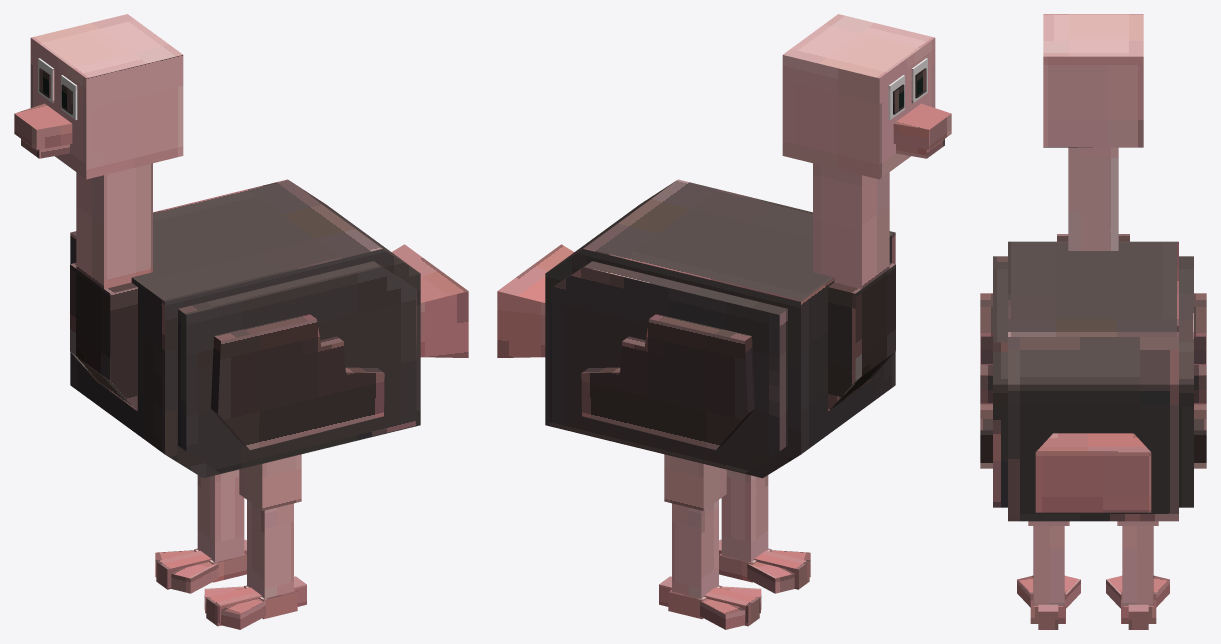
The model's file is animal_ostrich.obj.
The picture shows the model from 3 angles, left to right: view 1: azimuth 30°, elevation 25°; view 2: azimuth 150°, elevation 25°; view 3: azimuth 270°, elevation 25°; orthographic projection. The views are drawn at different scales.
Visible parts, largest first — view 1: animal_ostrich; view 2: animal_ostrich; view 3: animal_ostrich.
Boxes of the visible parts, x1=… form: animal_ostrich: x1=14, y1=14, x2=468, y2=629; animal_ostrich: x1=497, y1=14, x2=951, y2=629; animal_ostrich: x1=980, y1=14, x2=1206, y2=629.
Bounding box in the file's own units: 3.41 × 4.57 × 1.8.
1 material, 1 textured.
